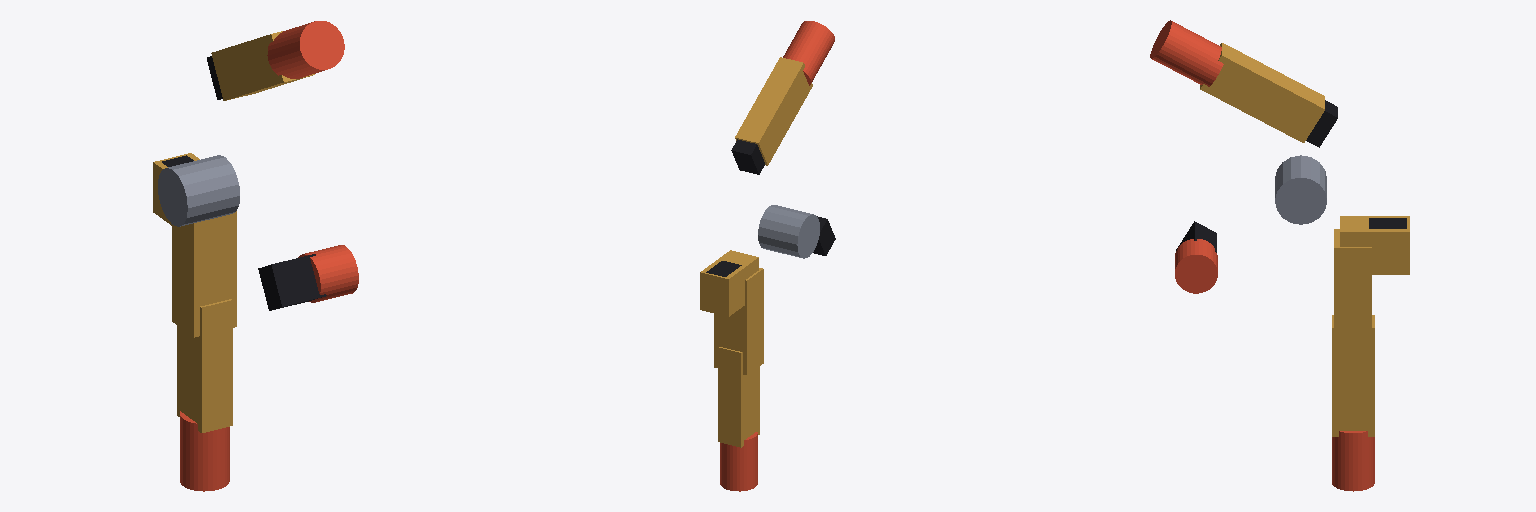
robot.urdf — g0001_c06:
<robot name="g0001_c06">
  <link name="palm">
    <visual name="palm_palm1">
      <origin xyz="0 0 0" rpy="0 0 0" />
      <geometry>
        <mesh filename="palm_palm1.obj" />
      </geometry>
      <material name="palm_palm1_mat">
        <color rgba="0.55 0.57 0.62 1" />
      </material>
    </visual>
    <collision>
      <origin xyz="0 0 0" rpy="0 0 0" />
      <geometry>
        <mesh filename="palm_palm1.obj" />
      </geometry>
    </collision>
    <visual name="palm_mount2">
      <origin xyz="0 0 0" rpy="0 0 0" />
      <geometry>
        <mesh filename="palm_mount2.obj" />
      </geometry>
      <material name="palm_mount2_mat">
        <color rgba="0.55 0.57 0.62 1" />
      </material>
    </visual>
    <collision>
      <origin xyz="0 0 0" rpy="0 0 0" />
      <geometry>
        <mesh filename="palm_mount2.obj" />
      </geometry>
    </collision>
    <visual name="palm_motor3">
      <origin xyz="-0.007 -0.08 -0.04" rpy="1.06057524e-16 -1.04719755 1.57079633" />
      <geometry>
        <box size="0.029 0.034 0.02" />
      </geometry>
      <material name="palm_motor3_mat">
        <color rgba="0.15 0.15 0.17 1" />
      </material>
    </visual>
    <collision>
      <origin xyz="-0.007 -0.08 -0.04" rpy="1.06057524e-16 -1.04719755 1.57079633" />
      <geometry>
        <box size="0.029 0.034 0.02" />
      </geometry>
    </collision>
    <visual name="palm_motor4">
      <origin xyz="0 0.00649519053 0.07625" rpy="-1.57079633 -1.04719755 1.57079633" />
      <geometry>
        <box size="0.029 0.034 0.02" />
      </geometry>
      <material name="palm_motor4_mat">
        <color rgba="0.15 0.15 0.17 1" />
      </material>
    </visual>
    <collision>
      <origin xyz="0 0.00649519053 0.07625" rpy="-1.57079633 -1.04719755 1.57079633" />
      <geometry>
        <box size="0.029 0.034 0.02" />
      </geometry>
    </collision>
    <visual name="palm_motor5">
      <origin xyz="-0.0045 0.0665 -0.0325" rpy="1.57079633 1.2246468e-16 -1.57079633" />
      <geometry>
        <box size="0.029 0.034 0.02" />
      </geometry>
      <material name="palm_motor5_mat">
        <color rgba="0.15 0.15 0.17 1" />
      </material>
    </visual>
    <collision>
      <origin xyz="-0.0045 0.0665 -0.0325" rpy="1.57079633 1.2246468e-16 -1.57079633" />
      <geometry>
        <box size="0.029 0.034 0.02" />
      </geometry>
    </collision>
    <inertial>
      <origin xyz="0 0.00036853476 0.00140943378" rpy="-1.57079633 0.555818498 -1.57079633" />
      <mass value="0.735750304" />
      <inertia ixx="0.00102688276" ixy="0" ixz="0" iyy="0.00139530979" iyz="0" izz="0.00235156052" />
    </inertial>
  </link>
  <link name="f0_link0">
    <visual name="f0_link0_link1">
      <origin xyz="0.019 0 -6.9388939e-18" rpy="-1.57079633 -0 -1.57079633" />
      <geometry>
        <cylinder radius="0.0165" length="0.029" />
      </geometry>
      <material name="f0_link0_link1_mat">
        <color rgba="0.85 0.35 0.25 1" />
      </material>
    </visual>
    <collision>
      <origin xyz="0.019 0 -6.9388939e-18" rpy="-1.57079633 -0 -1.57079633" />
      <geometry>
        <cylinder radius="0.0165" length="0.029" />
      </geometry>
    </collision>
    <inertial>
      <origin xyz="0.019 0 0" rpy="0 0 0" />
      <mass value="0.0763354" />
      <inertia ixx="9.49466441e-06" ixy="0" ixz="0" iyy="2.24143997e-05" iyz="0" izz="2.24143997e-05" />
    </inertial>
  </link>
  <link name="f1_link0">
    <visual name="f1_link0_link1">
      <origin xyz="0.03375 0 0" rpy="0 7.03853194e-17 0" />
      <geometry>
        <box size="0.0915 0.024 0.033" />
      </geometry>
      <material name="f1_link0_link1_mat">
        <color rgba="0.80 0.62 0.30 1" />
      </material>
    </visual>
    <collision>
      <origin xyz="0.03375 0 0" rpy="0 7.03853194e-17 0" />
      <geometry>
        <box size="0.0915 0.024 0.033" />
      </geometry>
    </collision>
    <inertial>
      <origin xyz="0.03375 0 0" rpy="0 0 0" />
      <mass value="0.126819" />
      <inertia ixx="1.75961363e-05" ixy="0" ixz="0" iyy="9.99888553e-05" iyz="0" izz="9.45673431e-05" />
    </inertial>
  </link>
  <link name="f1_link1">
    <visual name="f1_link1_link1">
      <origin xyz="0.029 0 -6.9388939e-18" rpy="-1.57079633 -0 -1.57079633" />
      <geometry>
        <cylinder radius="0.0165" length="0.049" />
      </geometry>
      <material name="f1_link1_link1_mat">
        <color rgba="0.85 0.35 0.25 1" />
      </material>
    </visual>
    <collision>
      <origin xyz="0.029 0 -6.9388939e-18" rpy="-1.57079633 -0 -1.57079633" />
      <geometry>
        <cylinder radius="0.0165" length="0.049" />
      </geometry>
    </collision>
    <inertial>
      <origin xyz="0.029 0 0" rpy="0 0 0" />
      <mass value="0.106270851" />
      <inertia ixx="1.35696277e-05" ixy="0" ixz="0" iyy="5.30015704e-05" iyz="0" izz="5.30015704e-05" />
    </inertial>
  </link>
  <link name="f2_link0">
    <visual name="f2_link0_link1">
      <origin xyz="-0.00625 0 -0.0165" rpy="0 -0 0" />
      <geometry>
        <box size="0.0365 0.029 0.053" />
      </geometry>
      <material name="f2_link0_link1_mat">
        <color rgba="0.80 0.62 0.30 1" />
      </material>
    </visual>
    <collision>
      <origin xyz="-0.00625 0 -0.0165" rpy="0 -0 0" />
      <geometry>
        <box size="0.0365 0.029 0.053" />
      </geometry>
    </collision>
    <inertial>
      <origin xyz="-0.00625 0 -0.0165" rpy="0 0 0" />
      <mass value="0.098175875" />
      <inertia ixx="2.98618286e-05" ixy="0" ixz="0" iyy="3.38809035e-05" iyz="0" izz="1.778006e-05" />
    </inertial>
  </link>
  <link name="f2_link1">
    <visual name="f2_link1_link1">
      <origin xyz="0.03375 0 -6.9388939e-18" rpy="0 -0 0" />
      <geometry>
        <box size="0.0915 0.033 0.029" />
      </geometry>
      <material name="f2_link1_link1_mat">
        <color rgba="0.80 0.62 0.30 1" />
      </material>
    </visual>
    <collision>
      <origin xyz="0.03375 0 -6.9388939e-18" rpy="0 -0 0" />
      <geometry>
        <box size="0.0915 0.033 0.029" />
      </geometry>
    </collision>
    <inertial>
      <origin xyz="0.03375 0 0" rpy="0 0 0" />
      <mass value="0.153239625" />
      <inertia ixx="2.46460397e-05" ixy="0" ixz="0" iyy="0.000117652915" iyz="0" izz="0.000120819867" />
    </inertial>
  </link>
  <link name="f2_link2">
    <visual name="f2_link2_link1">
      <origin xyz="0.03375 0 0" rpy="0 -0 0" />
      <geometry>
        <box size="0.0915 0.024 0.033" />
      </geometry>
      <material name="f2_link2_link1_mat">
        <color rgba="0.80 0.62 0.30 1" />
      </material>
    </visual>
    <collision>
      <origin xyz="0.03375 0 0" rpy="0 -0 0" />
      <geometry>
        <box size="0.0915 0.024 0.033" />
      </geometry>
    </collision>
    <inertial>
      <origin xyz="0.03375 0 0" rpy="0 0 0" />
      <mass value="0.126819" />
      <inertia ixx="1.75961363e-05" ixy="0" ixz="0" iyy="9.99888553e-05" iyz="0" izz="9.45673431e-05" />
    </inertial>
  </link>
  <link name="f2_link3">
    <visual name="f2_link3_link1">
      <origin xyz="0.029 0 0" rpy="-1.57079633 -0 -1.57079633" />
      <geometry>
        <cylinder radius="0.0165" length="0.049" />
      </geometry>
      <material name="f2_link3_link1_mat">
        <color rgba="0.85 0.35 0.25 1" />
      </material>
    </visual>
    <collision>
      <origin xyz="0.029 0 0" rpy="-1.57079633 -0 -1.57079633" />
      <geometry>
        <cylinder radius="0.0165" length="0.049" />
      </geometry>
    </collision>
    <inertial>
      <origin xyz="0.029 0 0" rpy="0 0 0" />
      <mass value="0.106270851" />
      <inertia ixx="1.35696277e-05" ixy="0" ixz="0" iyy="5.30015704e-05" iyz="0" izz="5.30015704e-05" />
    </inertial>
  </link>
  <joint name="f0_j0" type="revolute">
    <parent link="palm" />
    <child link="f0_link0" />
    <origin xyz="0.0005 -0.08 -0.04" rpy="1.04719755 5.30287619e-17 -3.061617e-17" />
    <axis xyz="0 1 6.123234e-17" />
    <limit effort="0.5" lower="-0.523598776" upper="0.523598776" velocity="5" />
    <dynamics damping="0.0775033" friction="0" />
  </joint>
  <joint name="f1_j0" type="revolute">
    <parent link="palm" />
    <child link="f1_link0" />
    <origin xyz="0 0 0.08" rpy="-0 -0.523598776 -1.57079633" />
    <axis xyz="0 0 1" />
    <limit effort="0.5" lower="-0.523598776" upper="1.57079633" velocity="5" />
    <dynamics damping="0.0775033" friction="0" />
  </joint>
  <joint name="f1_j1" type="revolute">
    <parent link="f1_link0" />
    <child link="f1_link1" />
    <origin xyz="0.07 0 0" rpy="0 0 0" />
    <axis xyz="0 0 1" />
    <limit effort="0.5" lower="-0.523598776" upper="1.57079633" velocity="5" />
    <dynamics damping="0.0775033" friction="0" />
  </joint>
  <joint name="f2_j0" type="revolute">
    <parent link="palm" />
    <child link="f2_link0" />
    <origin xyz="-0.0045 0.04 -0.04" rpy="1.57079633 1.57079633 0" />
    <axis xyz="0 0 1" />
    <limit effort="0.5" lower="-0.523598776" upper="1.57079633" velocity="5" />
    <dynamics damping="0.0775033" friction="0" />
  </joint>
  <joint name="f2_j1" type="revolute">
    <parent link="f2_link0" />
    <child link="f2_link1" />
    <origin xyz="0 0 0" rpy="0 0 0" />
    <axis xyz="0 1 6.123234e-17" />
    <limit effort="0.5" lower="-0.523598776" upper="0.523598776" velocity="5" />
    <dynamics damping="0.0775033" friction="0" />
  </joint>
  <joint name="f2_j2" type="revolute">
    <parent link="f2_link1" />
    <child link="f2_link2" />
    <origin xyz="0.07 0 0" rpy="0 0 0" />
    <axis xyz="0 0 1" />
    <limit effort="0.5" lower="-0.523598776" upper="1.57079633" velocity="5" />
    <dynamics damping="0.0775033" friction="0" />
  </joint>
  <joint name="f2_j3" type="revolute">
    <parent link="f2_link2" />
    <child link="f2_link3" />
    <origin xyz="0.07 0 0" rpy="0 0 0" />
    <axis xyz="0 0 1" />
    <limit effort="0.5" lower="-0.523598776" upper="1.57079633" velocity="5" />
    <dynamics damping="0.0775033" friction="0" />
  </joint>
</robot>

--- Render facts (derived) ---
The picture shows the robot from 3 angles, left to right: view 1: azimuth 30°, elevation 25°; view 2: azimuth 150°, elevation 25°; view 3: azimuth 270°, elevation 25°; orthographic projection.
Model g0001_c06 with 8 links and 7 joints (7 revolute), rooted at palm, posed all joints at 0.
Links seen in each view (by area): view 1: palm, f2_link1, f2_link2, f1_link1, f2_link3, f1_link0, f0_link0, f2_link0; view 2: palm, f1_link0, f2_link2, f2_link1, f2_link0, f2_link3, f1_link1; view 3: f1_link0, palm, f2_link1, f2_link2, f1_link1, f2_link0, f2_link3, f0_link0.
Link boxes in pixels (left/top/right/bottom): palm: left=158, top=56, right=326, bottom=310; f2_link1: left=172, top=211, right=236, bottom=337; f2_link2: left=177, top=299, right=232, bottom=432; f1_link1: left=267, top=21, right=344, bottom=78; f2_link3: left=180, top=411, right=229, bottom=491; f1_link0: left=211, top=31, right=314, bottom=100; f0_link0: left=298, top=245, right=358, bottom=302; f2_link0: left=153, top=153, right=199, bottom=225; palm: left=706, top=139, right=835, bottom=276; f1_link0: left=735, top=57, right=812, bottom=165; f2_link2: left=718, top=347, right=759, bottom=447; f2_link1: left=714, top=268, right=763, bottom=374; f2_link0: left=700, top=250, right=758, bottom=316; f2_link3: left=720, top=432, right=757, bottom=491; f1_link1: left=783, top=21, right=834, bottom=85; f1_link0: left=1200, top=43, right=1324, bottom=142; palm: left=1176, top=100, right=1406, bottom=252; f2_link1: left=1334, top=229, right=1371, bottom=355; f2_link2: left=1332, top=315, right=1374, bottom=436; f1_link1: left=1150, top=20, right=1223, bottom=86; f2_link0: left=1340, top=216, right=1409, bottom=274; f2_link3: left=1332, top=431, right=1374, bottom=491; f0_link0: left=1175, top=239, right=1217, bottom=293.
Size in the robot's own frame: 0.086 by 0.1982 by 0.3895 metres.
Meshes: 2 distinct files referenced, 1 mesh visuals loaded (1 OBJ); not drawn: 1 (reference not matched to a file when rendering).
